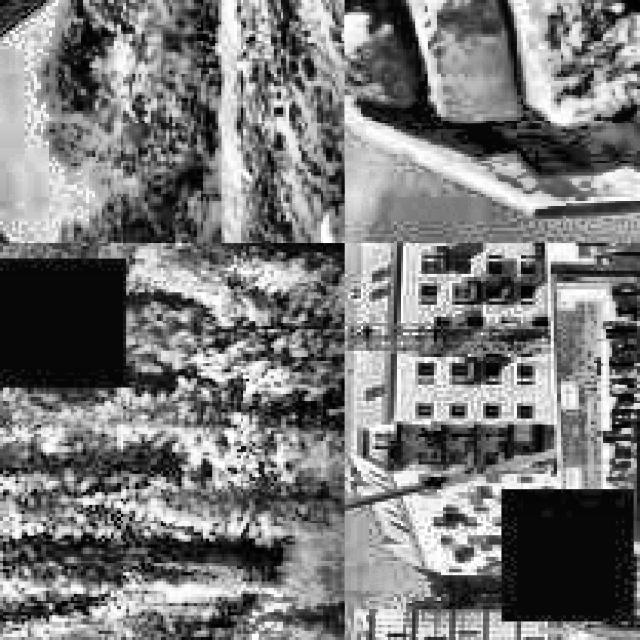dump_truck: (344, 0, 640, 215)
excavator: (0, 0, 240, 240), (486, 507, 640, 640)
